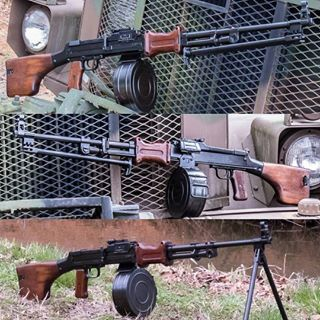ak47: (6, 1, 312, 112), (13, 114, 310, 212), (17, 221, 274, 315)
